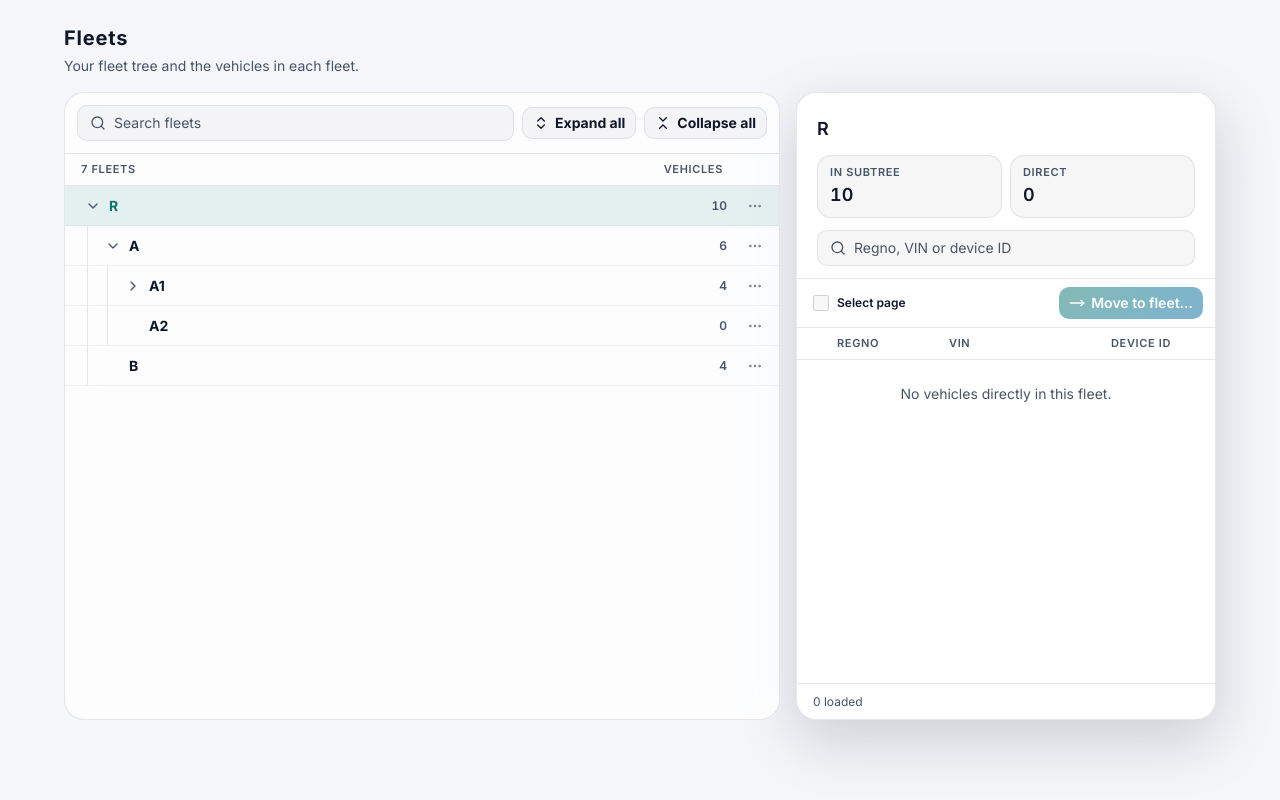
F03-T2 FleetsPage › row menu shows why actions are unavailable
Expected: the element named "Fleet tree" is shown, [65, 186, 779, 386]
Click the button named "Actions for B". click: (755, 366)
box: [739, 350, 771, 382]
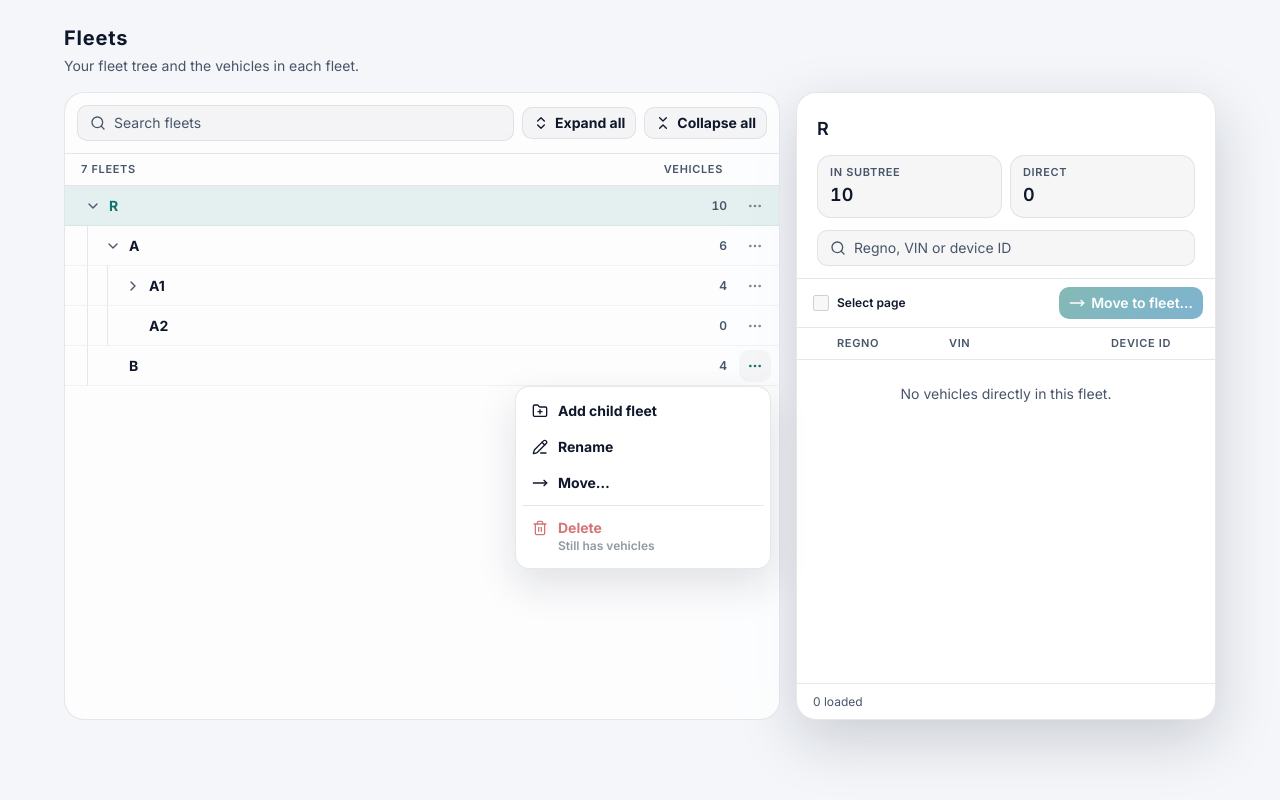
Expected: the menu item "Delete Still has vehicles" is shown, [532, 519, 655, 553]
Press Escape
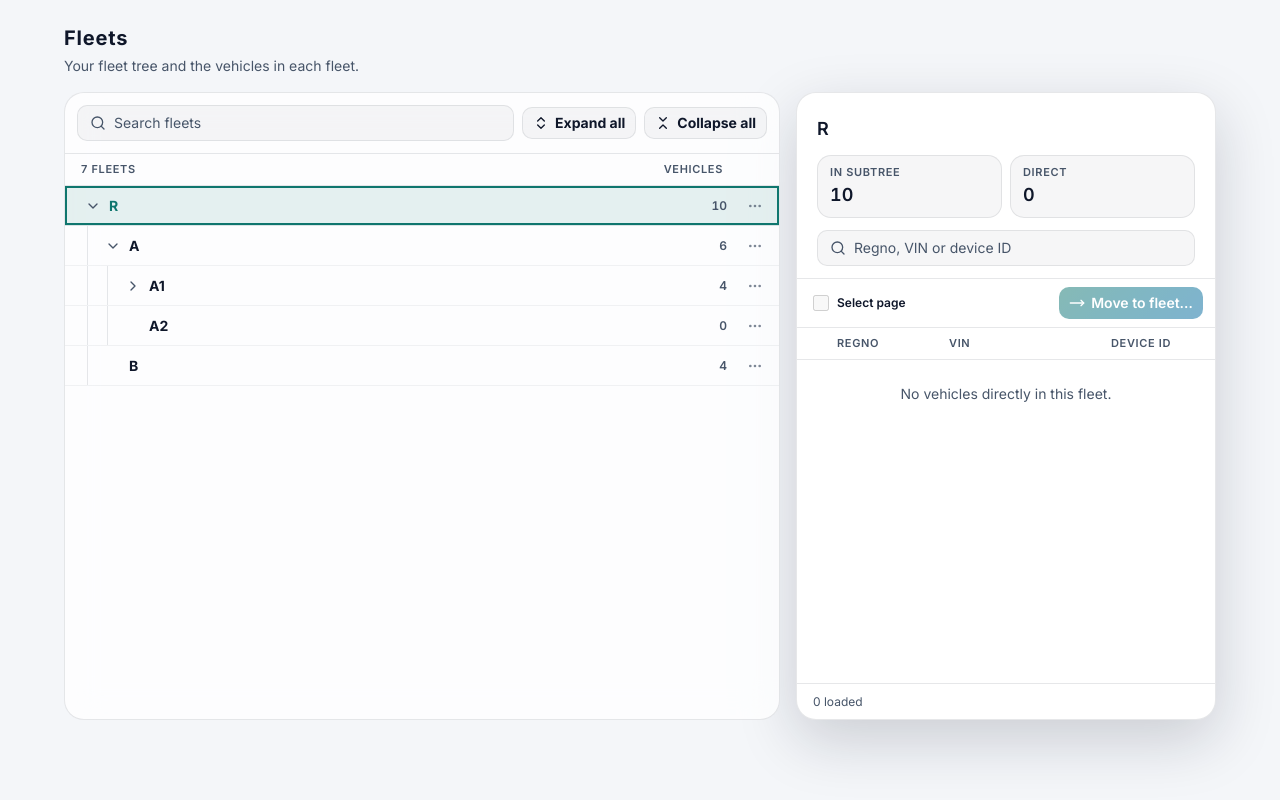
Click the button "Expand all". click: (579, 123)
box: [522, 107, 636, 139]
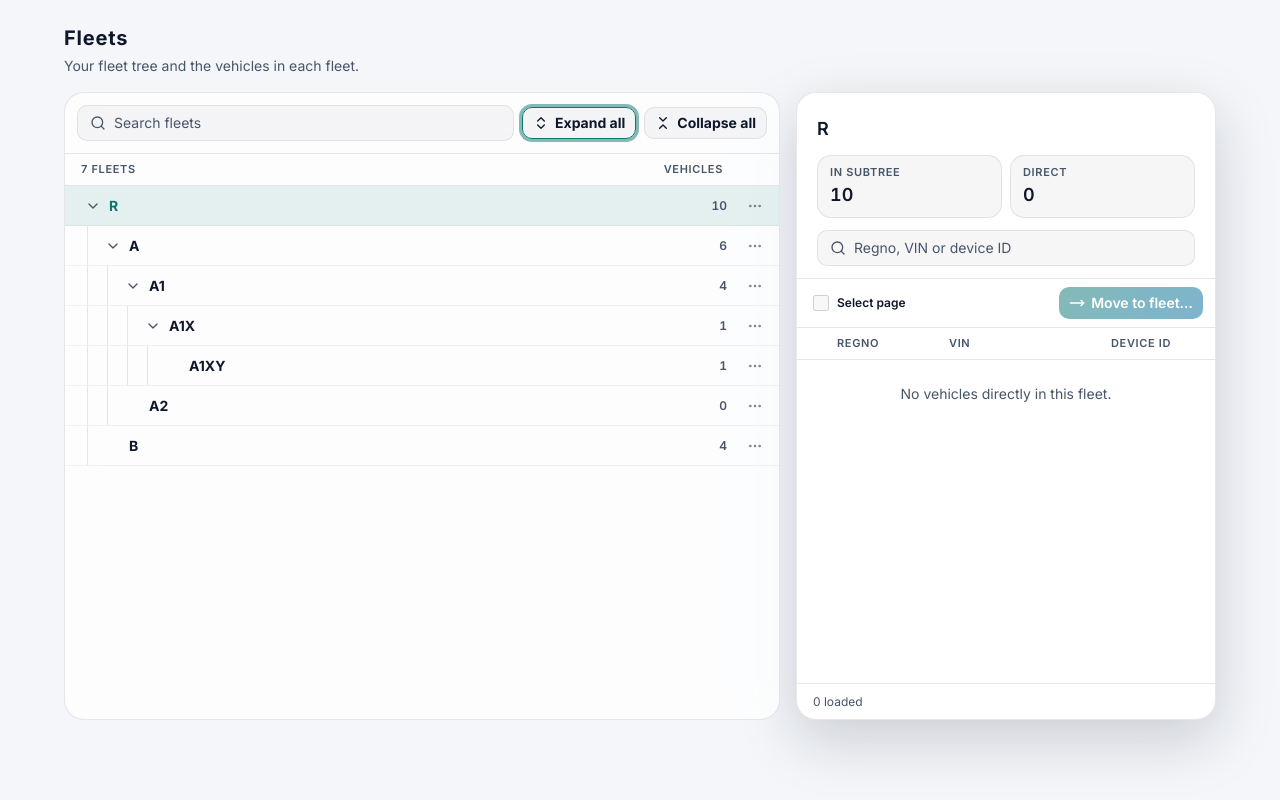
Click the button named "Actions for A1XY". click: (755, 366)
box: [739, 350, 771, 382]
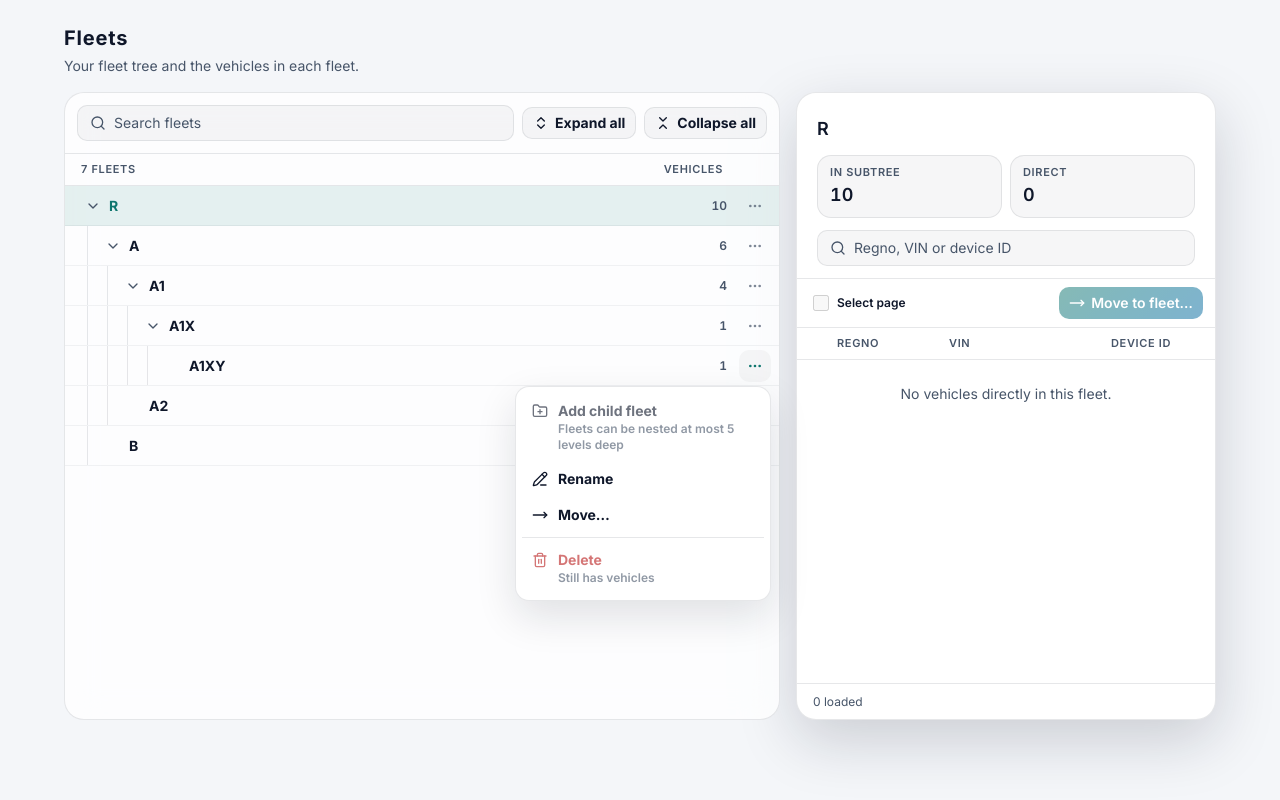
Expected: the menu item "Add child fleet Fleets can be nested at most 5 levels deep" is shown, [532, 402, 734, 452]
